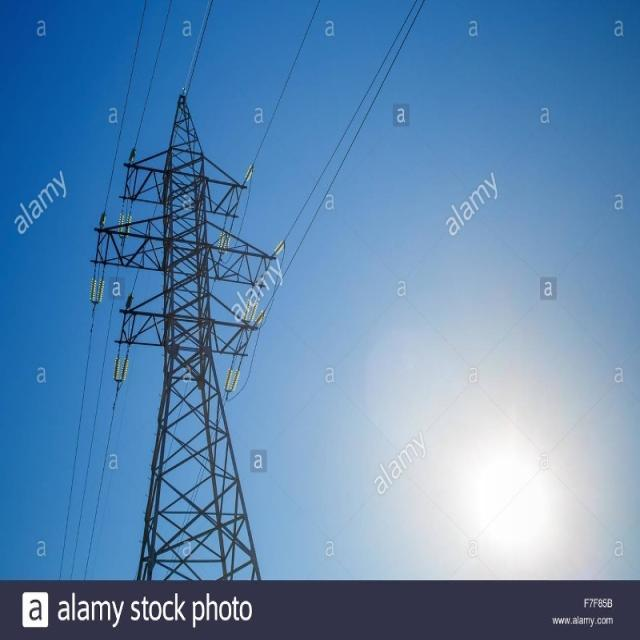non-critical vegetation: (88, 92, 287, 580)
